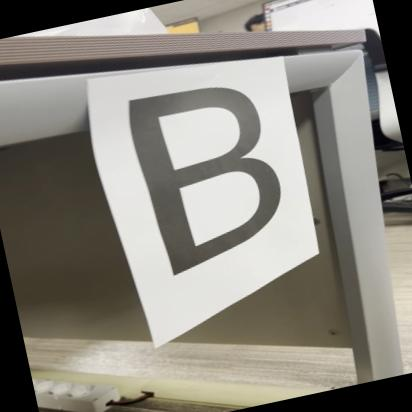seat: (98, 59, 300, 306)
